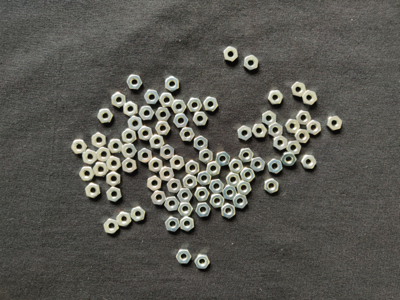nut: (82, 149, 98, 165), (85, 183, 101, 199), (291, 82, 307, 98), (72, 140, 88, 155), (93, 162, 109, 177), (98, 109, 114, 124), (111, 92, 126, 108), (106, 187, 122, 202), (106, 157, 122, 172), (108, 139, 124, 154), (127, 75, 143, 90), (122, 158, 137, 174), (176, 249, 192, 264), (195, 254, 210, 270), (138, 148, 153, 164), (144, 90, 160, 105), (151, 191, 167, 206), (147, 176, 162, 192), (159, 167, 175, 182), (167, 178, 182, 194), (170, 155, 185, 171), (194, 187, 210, 202), (203, 97, 219, 112), (244, 55, 259, 71), (216, 151, 231, 167), (240, 168, 256, 183), (268, 159, 283, 175), (268, 90, 284, 105), (302, 90, 318, 105), (327, 116, 343, 131), (149, 157, 163, 174), (92, 133, 107, 148), (104, 219, 119, 234), (117, 212, 132, 227), (131, 207, 146, 222), (122, 129, 137, 144), (128, 116, 143, 131), (138, 126, 153, 141), (165, 217, 180, 232), (180, 217, 195, 232), (150, 135, 165, 150), (165, 197, 180, 212), (160, 145, 175, 160), (183, 175, 198, 190), (185, 161, 200, 176), (196, 203, 211, 218), (197, 171, 212, 186), (187, 98, 202, 113), (199, 149, 214, 164), (206, 161, 221, 176), (209, 179, 224, 194), (210, 194, 225, 209), (221, 204, 236, 219), (233, 194, 248, 209), (226, 173, 241, 188), (229, 159, 244, 174), (237, 181, 252, 196), (251, 157, 266, 172), (238, 126, 253, 141), (264, 179, 279, 194), (262, 111, 277, 126), (296, 111, 311, 126), (79, 167, 95, 181), (122, 144, 138, 158), (124, 102, 138, 118), (139, 106, 155, 120), (155, 122, 171, 136), (159, 93, 175, 107), (177, 189, 193, 203), (173, 114, 189, 128), (194, 136, 208, 152), (223, 185, 237, 201), (281, 152, 297, 166), (301, 155, 317, 169), (96, 148, 111, 162), (107, 172, 121, 187), (178, 203, 193, 217), (180, 128, 195, 142), (172, 100, 187, 114), (193, 112, 208, 126), (224, 47, 238, 62), (239, 149, 254, 163), (252, 124, 267, 138), (269, 123, 283, 138), (274, 136, 288, 151), (287, 141, 302, 155), (285, 120, 300, 134), (295, 129, 310, 143), (307, 120, 321, 135), (166, 76, 179, 92), (156, 108, 171, 121)
